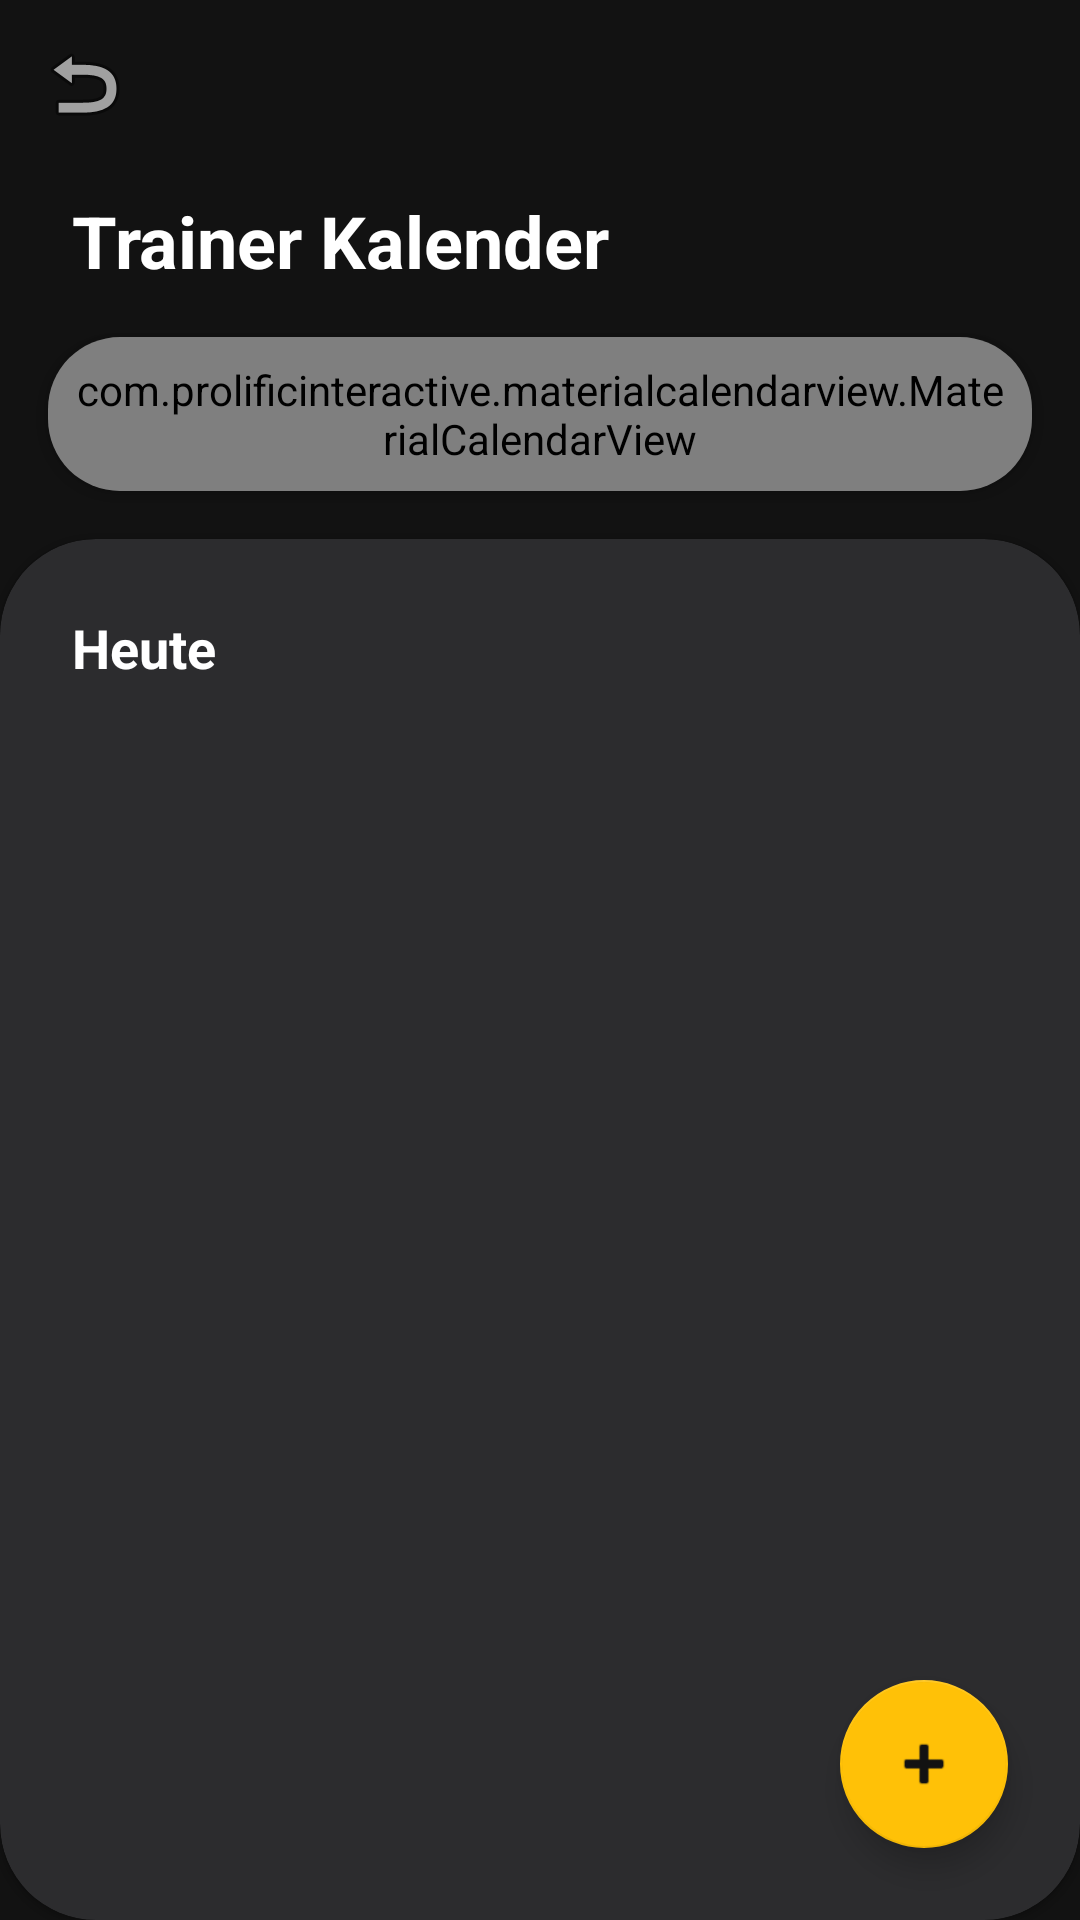

Icon bounding boxes for this 1080*1920 phone screenshot, format [x1=x1, y1=y1, x2=x2, y2=y2]:
add: [x1=840, y1=1680, x2=1008, y2=1848]
